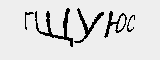Г: (21, 9, 33, 32)
С: (125, 13, 140, 34)
У: (71, 7, 103, 47)
Щ: (32, 7, 72, 49)
Ю: (105, 8, 127, 41)
